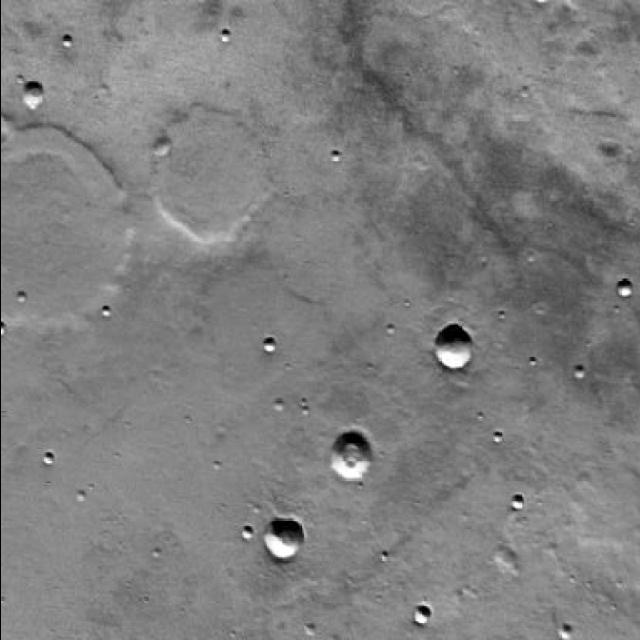crater: (0, 136, 126, 347), (147, 118, 261, 250), (326, 444, 368, 493), (424, 338, 464, 384), (260, 532, 298, 576), (10, 94, 36, 123), (612, 289, 630, 309), (149, 148, 166, 168), (438, 588, 454, 606), (529, 0, 551, 11)
